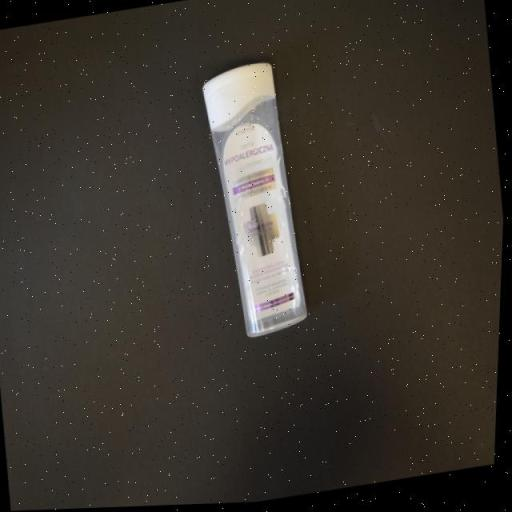plastic: (188, 50, 330, 349)
